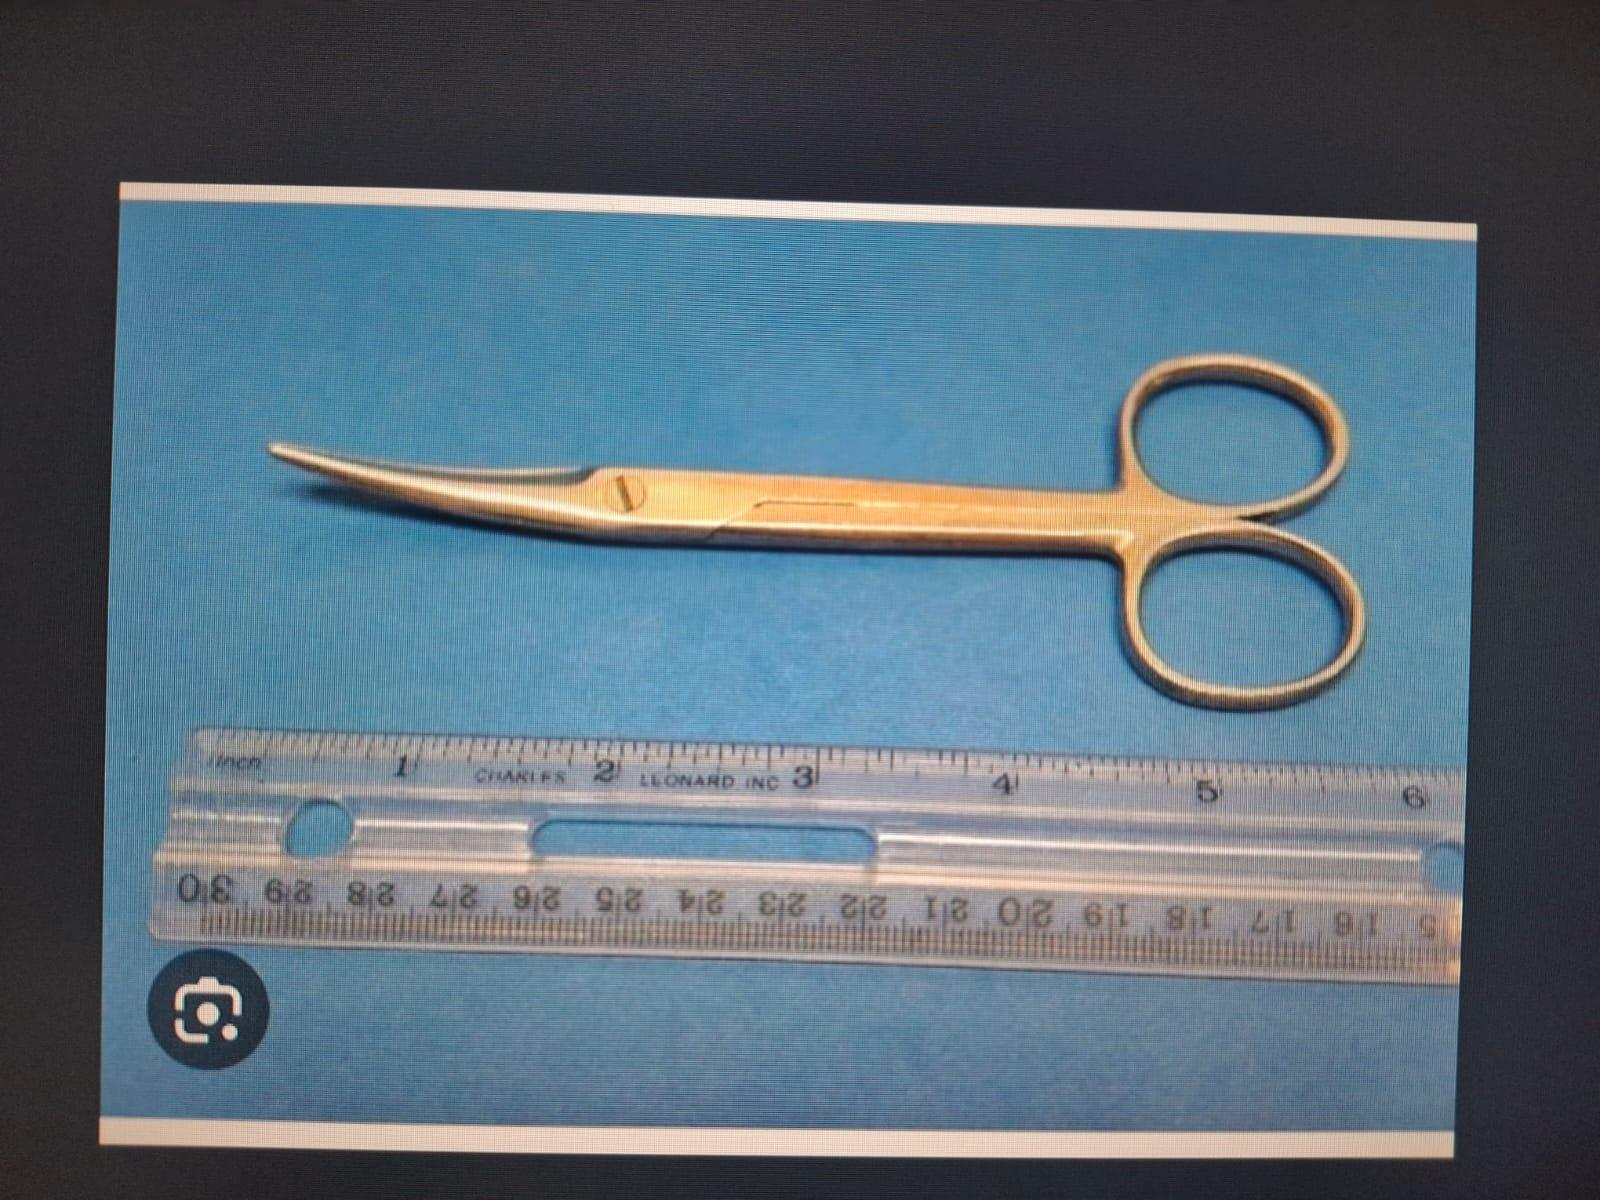Curved Mayo: (246, 326, 1386, 718)
